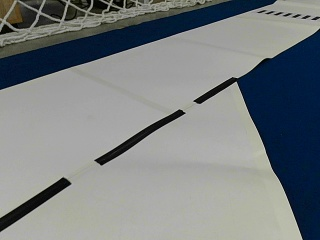crosswalk: (257, 9, 319, 20)
